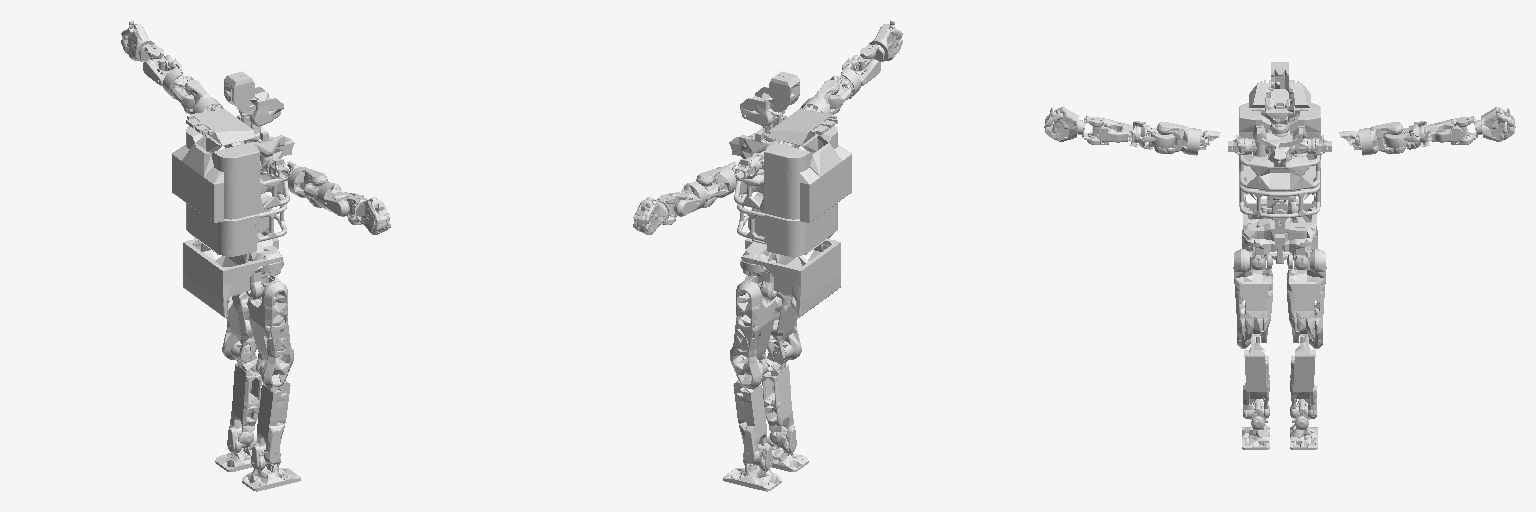
--- Facts derived from the render (not from the file) ---
3 views of the same robot in one strip: view 1: azimuth 30°, elevation 25°; view 2: azimuth 150°, elevation 25°; view 3: azimuth 270°, elevation 25° (orthographic).
Model JAXON with 34 links and 33 joints (33 revolute), rooted at BODY, posed joints at zero except 2 at the middle of their limits (LARM_JOINT2 = 1.71, RARM_JOINT2 = -1.71).
Visible links, largest first — view 1: CHEST_LINK2, BODY, RLEG_LINK2, CHEST_LINK1, LLEG_LINK3, RLEG_LINK3, HEAD_LINK1, LLEG_LINK2, RARM_LINK7, RLEG_LINK5, LARM_LINK7, RARM_LINK3 (+5 smaller); view 2: CHEST_LINK2, BODY, LLEG_LINK2, CHEST_LINK1, RLEG_LINK3, LLEG_LINK3, HEAD_LINK1, RLEG_LINK2, LARM_LINK7, LLEG_LINK5, RARM_LINK7, LARM_LINK3 (+5 smaller); view 3: CHEST_LINK2, LLEG_LINK2, RLEG_LINK2, BODY, CHEST_LINK1, LLEG_LINK3, RLEG_LINK3, LARM_LINK7, RARM_LINK7, HEAD_LINK1, LARM_LINK3, RARM_LINK3 (+8 smaller).
Boxes of the visible links, bbox=[...] form: CHEST_LINK2: bbox=[172, 109, 294, 222]; BODY: bbox=[183, 228, 282, 317]; RLEG_LINK2: bbox=[247, 281, 293, 388]; CHEST_LINK1: bbox=[186, 192, 286, 256]; LLEG_LINK3: bbox=[229, 341, 261, 444]; RLEG_LINK3: bbox=[254, 363, 290, 463]; HEAD_LINK1: bbox=[224, 71, 283, 126]; LLEG_LINK2: bbox=[222, 292, 256, 362]; RARM_LINK7: bbox=[348, 195, 390, 234]; RLEG_LINK5: bbox=[242, 455, 300, 491]; LARM_LINK7: bbox=[121, 20, 163, 62]; RARM_LINK3: bbox=[288, 167, 327, 207]; CHEST_LINK2: bbox=[729, 109, 851, 222]; BODY: bbox=[741, 238, 840, 317]; LLEG_LINK2: bbox=[730, 281, 776, 388]; CHEST_LINK1: bbox=[737, 192, 837, 256]; RLEG_LINK3: bbox=[762, 341, 794, 444]; LLEG_LINK3: bbox=[733, 363, 769, 463]; HEAD_LINK1: bbox=[740, 71, 799, 126]; RLEG_LINK2: bbox=[767, 292, 801, 362]; LARM_LINK7: bbox=[633, 195, 675, 234]; LLEG_LINK5: bbox=[723, 455, 781, 491]; RARM_LINK7: bbox=[860, 20, 902, 62]; LARM_LINK3: bbox=[696, 167, 735, 207]; CHEST_LINK2: bbox=[1239, 80, 1320, 190]; LLEG_LINK2: bbox=[1287, 249, 1326, 348]; RLEG_LINK2: bbox=[1233, 249, 1272, 348]; BODY: bbox=[1242, 200, 1317, 263]; CHEST_LINK1: bbox=[1239, 160, 1320, 219]; LLEG_LINK3: bbox=[1290, 334, 1316, 418]; RLEG_LINK3: bbox=[1243, 334, 1269, 418]; LARM_LINK7: bbox=[1456, 107, 1515, 142]; RARM_LINK7: bbox=[1044, 107, 1103, 142]; HEAD_LINK1: bbox=[1265, 62, 1294, 123]; LARM_LINK3: bbox=[1359, 122, 1405, 155]; RARM_LINK3: bbox=[1154, 122, 1200, 155].
Bounding box of the posed robot: 0.4838 × 2.16 × 1.85 m (x, y, z).
Meshes: 34 distinct files referenced, 34 mesh visuals loaded (34 Collada DAE).

URDF robot description (JAXON):
<?xml version="1.0"?>
<robot name="JAXON"
       xmlns:xi="http://www.w3.org/2001/XInclude"
       >
  <link name="BODY">
    <visual>
      <origin xyz="0 0 1.0185" rpy="0 -0 0"/>
      <geometry>
        <mesh filename="package://hrpsys_ros_bridge_tutorials/models/JAXON_meshes/BODY_mesh.dae" scale="1 1 1" />
      </geometry>
    </visual>
    <collision>
      <origin xyz="0 0 1.0185" rpy="0 -0 0"/>
      <geometry>
        <mesh filename="package://hrpsys_ros_bridge_tutorials/models/JAXON_meshes/BODY_mesh.dae" scale="1 1 1" />
      </geometry>
    </collision>
    <inertial>
      <mass value="22.7" />
      <origin xyz="-0.1059 -0.00067 -0.023" rpy="0 -0 0"/>
      <inertia ixx="0.229835" ixy="0.00171" ixz="0.135708" iyy="0.535336" iyz="0.000616" izz="0.549159"/>
    </inertial>
  </link>
  <gazebo reference="BODY">
    <mu1>0.9</mu1>
    <mu2>0.9</mu2>
  </gazebo>
  <link name="CHEST_LINK0">
    <visual>
      <origin xyz="0.006 0 0.128" rpy="0 -0 0"/>
      <geometry>
        <mesh filename="package://hrpsys_ros_bridge_tutorials/models/JAXON_meshes/CHEST_LINK0_mesh.dae" scale="1 1 1" />
      </geometry>
    </visual>
    <collision>
      <origin xyz="0.006 0 0.128" rpy="0 -0 0"/>
      <geometry>
        <mesh filename="package://hrpsys_ros_bridge_tutorials/models/JAXON_meshes/CHEST_LINK0_mesh.dae" scale="1 1 1" />
      </geometry>
    </collision>
    <inertial>
      <mass value="0.866" />
      <origin xyz="-0.0084 0.00137 0.01359" rpy="0 -0 0"/>
      <inertia ixx="0.00125384" ixy="0" ixz="0" iyy="0.00123407" iyz="0" izz="0.000677392"/>
    </inertial>
  </link>
  <gazebo reference="CHEST_LINK0">
    <mu1>0.9</mu1>
    <mu2>0.9</mu2>
  </gazebo>
  <link name="CHEST_LINK1">
    <visual>
      <origin xyz="0 0 0.025" rpy="0 -0 0"/>
      <geometry>
        <mesh filename="package://hrpsys_ros_bridge_tutorials/models/JAXON_meshes/CHEST_LINK1_mesh.dae" scale="1 1 1" />
      </geometry>
    </visual>
    <collision>
      <origin xyz="0 0 0.025" rpy="0 -0 0"/>
      <geometry>
        <mesh filename="package://hrpsys_ros_bridge_tutorials/models/JAXON_meshes/CHEST_LINK1_mesh.dae" scale="1 1 1" />
      </geometry>
    </collision>
    <inertial>
      <mass value="18.23" />
      <origin xyz="-0.111697 0.0039 0.03652" rpy="0 -0 0"/>
      <inertia ixx="0.186526" ixy="0.003889" ixz="-0.039414" iyy="0.418012" iyz="0.001281" izz="0.477668"/>
    </inertial>
  </link>
  <gazebo reference="CHEST_LINK1">
    <mu1>0.9</mu1>
    <mu2>0.9</mu2>
  </gazebo>
  <link name="CHEST_LINK2">
    <visual>
      <origin xyz="0 0 0.3085" rpy="0 -0 0"/>
      <geometry>
        <mesh filename="package://hrpsys_ros_bridge_tutorials/models/JAXON_meshes/CHEST_LINK2_mesh.dae" scale="1 1 1" />
      </geometry>
    </visual>
    <collision>
      <origin xyz="0 0 0.3085" rpy="0 -0 0"/>
      <geometry>
        <mesh filename="package://hrpsys_ros_bridge_tutorials/models/JAXON_meshes/CHEST_LINK2_mesh.dae" scale="1 1 1" />
      </geometry>
    </collision>
    <inertial>
      <mass value="31.33" />
      <origin xyz="-0.13693 -0.00113 -0.05796" rpy="0 -0 0"/>
      <inertia ixx="0.510746" ixy="0.005161" ixz="0.143334" iyy="1.09582" iyz="0.004687" izz="1.02505"/>
    </inertial>
  </link>
  <gazebo reference="CHEST_LINK2">
    <mu1>0.9</mu1>
    <mu2>0.9</mu2>
  </gazebo>
  <link name="HEAD_LINK0">
    <visual>
      <origin xyz="-0.015 0 0.0835" rpy="0 -0 0"/>
      <geometry>
        <mesh filename="package://hrpsys_ros_bridge_tutorials/models/JAXON_meshes/HEAD_LINK0_mesh.dae" scale="1 1 1" />
      </geometry>
    </visual>
    <collision>
      <origin xyz="-0.015 0 0.0835" rpy="0 -0 0"/>
      <geometry>
        <mesh filename="package://hrpsys_ros_bridge_tutorials/models/JAXON_meshes/HEAD_LINK0_mesh.dae" scale="1 1 1" />
      </geometry>
    </collision>
    <inertial>
      <mass value="1.086" />
      <origin xyz="-0.01227 3e-05 0.03231" rpy="0 -0 0"/>
      <inertia ixx="0.0031" ixy="0" ixz="0" iyy="0.0035" iyz="0" izz="0.00119"/>
    </inertial>
  </link>
  <gazebo reference="HEAD_LINK0">
    <mu1>0.9</mu1>
    <mu2>0.9</mu2>
  </gazebo>
  <link name="HEAD_LINK1">
    <visual>
      <origin xyz="0 0 0.102" rpy="0 -0 0"/>
      <geometry>
        <mesh filename="package://hrpsys_ros_bridge_tutorials/models/JAXON_meshes/HEAD_LINK1_mesh.dae" scale="1 1 1" />
      </geometry>
    </visual>
    <collision>
      <origin xyz="0 0 0.102" rpy="0 -0 0"/>
      <geometry>
        <mesh filename="package://hrpsys_ros_bridge_tutorials/models/JAXON_meshes/HEAD_LINK1_mesh.dae" scale="1 1 1" />
      </geometry>
    </collision>
    <inertial>
      <mass value="4.274" />
      <origin xyz="0.042 0.004 0.058" rpy="0 -0 0"/>
      <inertia ixx="0.035683" ixy="0.000877" ixz="-0.003172" iyy="0.040037" iyz="0.000652" izz="0.035345"/>
    </inertial>
  </link>
  <gazebo reference="HEAD_LINK1">
    <mu1>0.9</mu1>
    <mu2>0.9</mu2>
  </gazebo>
  <link name="LARM_LINK0">
    <visual>
      <origin xyz="0 0.0875 0" rpy="0 -0 0"/>
      <geometry>
        <mesh filename="package://hrpsys_ros_bridge_tutorials/models/JAXON_meshes/LARM_LINK0_mesh.dae" scale="1 1 1" />
      </geometry>
    </visual>
    <collision>
      <origin xyz="0 0.0875 0" rpy="0 -0 0"/>
      <geometry>
        <mesh filename="package://hrpsys_ros_bridge_tutorials/models/JAXON_meshes/LARM_LINK0_mesh.dae" scale="1 1 1" />
      </geometry>
    </collision>
    <inertial>
      <mass value="1.048" />
      <origin xyz="-0.01745 0.00887 -0.00015" rpy="0 -0 0"/>
      <inertia ixx="0.0029762" ixy="0" ixz="0" iyy="0.00235085" iyz="0" izz="0.00355486"/>
    </inertial>
  </link>
  <gazebo reference="LARM_LINK0">
    <mu1>0.9</mu1>
    <mu2>0.9</mu2>
  </gazebo>
  <link name="LARM_LINK1">
    <visual>
      <origin xyz="0 0.07275 0" rpy="0 -0 0"/>
      <geometry>
        <mesh filename="package://hrpsys_ros_bridge_tutorials/models/JAXON_meshes/LARM_LINK1_mesh.dae" scale="1 1 1" />
      </geometry>
    </visual>
    <collision>
      <origin xyz="0 0.07275 0" rpy="0 -0 0"/>
      <geometry>
        <mesh filename="package://hrpsys_ros_bridge_tutorials/models/JAXON_meshes/LARM_LINK1_mesh.dae" scale="1 1 1" />
      </geometry>
    </collision>
    <inertial>
      <mass value="0.298" />
      <origin xyz="0.00011 0.01799 0.00288" rpy="0 -0 0"/>
      <inertia ixx="0.000412035" ixy="0" ixz="0" iyy="0.000251611" iyz="0" izz="0.000376771"/>
    </inertial>
  </link>
  <gazebo reference="LARM_LINK1">
    <mu1>0.9</mu1>
    <mu2>0.9</mu2>
  </gazebo>
  <link name="LARM_LINK2">
    <visual>
      <origin xyz="0 0.057 0" rpy="0 -0 0"/>
      <geometry>
        <mesh filename="package://hrpsys_ros_bridge_tutorials/models/JAXON_meshes/LARM_LINK2_mesh.dae" scale="1 1 1" />
      </geometry>
    </visual>
    <collision>
      <origin xyz="0 0.057 0" rpy="0 -0 0"/>
      <geometry>
        <mesh filename="package://hrpsys_ros_bridge_tutorials/models/JAXON_meshes/LARM_LINK2_mesh.dae" scale="1 1 1" />
      </geometry>
    </collision>
    <inertial>
      <mass value="2.168" />
      <origin xyz="0.00845 0.00671 -0.0881" rpy="0 -0 0"/>
      <inertia ixx="0.0127408" ixy="0" ixz="0" iyy="0.0133751" iyz="0" izz="0.00460362"/>
    </inertial>
  </link>
  <gazebo reference="LARM_LINK2">
    <mu1>0.9</mu1>
    <mu2>0.9</mu2>
  </gazebo>
  <link name="LARM_LINK3">
    <visual>
      <origin xyz="0 0 -0.1965" rpy="0 -0 0"/>
      <geometry>
        <mesh filename="package://hrpsys_ros_bridge_tutorials/models/JAXON_meshes/LARM_LINK3_mesh.dae" scale="1 1 1" />
      </geometry>
    </visual>
    <collision>
      <origin xyz="0 0 -0.1965" rpy="0 -0 0"/>
      <geometry>
        <mesh filename="package://hrpsys_ros_bridge_tutorials/models/JAXON_meshes/LARM_LINK3_mesh.dae" scale="1 1 1" />
      </geometry>
    </collision>
    <inertial>
      <mass value="1.315" />
      <origin xyz="0.01393 4e-05 -0.07574" rpy="0 -0 0"/>
      <inertia ixx="0.00451716" ixy="0" ixz="0" iyy="0.0055237" iyz="0" izz="0.00217053"/>
    </inertial>
  </link>
  <gazebo reference="LARM_LINK3">
    <mu1>0.9</mu1>
    <mu2>0.9</mu2>
  </gazebo>
  <link name="LARM_LINK4">
    <visual>
      <origin xyz="0 0 -0.126" rpy="0 -0 0"/>
      <geometry>
        <mesh filename="package://hrpsys_ros_bridge_tutorials/models/JAXON_meshes/LARM_LINK4_mesh.dae" scale="1 1 1" />
      </geometry>
    </visual>
    <collision>
      <origin xyz="0 0 -0.126" rpy="0 -0 0"/>
      <geometry>
        <mesh filename="package://hrpsys_ros_bridge_tutorials/models/JAXON_meshes/LARM_LINK4_mesh.dae" scale="1 1 1" />
      </geometry>
    </collision>
    <inertial>
      <mass value="1.641" />
      <origin xyz="3e-05 0.00551 -0.0426" rpy="0 -0 0"/>
      <inertia ixx="0.00665559" ixy="0" ixz="0" iyy="0.00598857" iyz="0" izz="0.00288237"/>
    </inertial>
  </link>
  <gazebo reference="LARM_LINK4">
    <mu1>0.9</mu1>
    <mu2>0.9</mu2>
  </gazebo>
  <link name="LARM_LINK5">
    <visual>
      <origin xyz="0 0 -0.1275" rpy="0 -0 0"/>
      <geometry>
        <mesh filename="package://hrpsys_ros_bridge_tutorials/models/JAXON_meshes/LARM_LINK5_mesh.dae" scale="1 1 1" />
      </geometry>
    </visual>
    <collision>
      <origin xyz="0 0 -0.1275" rpy="0 -0 0"/>
      <geometry>
        <mesh filename="package://hrpsys_ros_bridge_tutorials/models/JAXON_meshes/LARM_LINK5_mesh.dae" scale="1 1 1" />
      </geometry>
    </collision>
    <inertial>
      <mass value="1.305" />
      <origin xyz="0.01271 2e-05 -0.08415" rpy="0 -0 0"/>
      <inertia ixx="0.00533939" ixy="0" ixz="0" iyy="0.00624028" iyz="0" izz="0.00205604"/>
    </inertial>
  </link>
  <gazebo reference="LARM_LINK5">
    <mu1>0.9</mu1>
    <mu2>0.9</mu2>
  </gazebo>
  <link name="LARM_LINK6">
    <visual>
      <origin xyz="0 0 -0.146" rpy="0 -0 0"/>
      <geometry>
        <mesh filename="package://hrpsys_ros_bridge_tutorials/models/JAXON_meshes/LARM_LINK6_mesh.dae" scale="1 1 1" />
      </geometry>
    </visual>
    <collision>
      <origin xyz="0 0 -0.146" rpy="0 -0 0"/>
      <geometry>
        <mesh filename="package://hrpsys_ros_bridge_tutorials/models/JAXON_meshes/LARM_LINK6_mesh.dae" scale="1 1 1" />
      </geometry>
    </collision>
    <inertial>
      <mass value="0.505" />
      <origin xyz="0.00013 0.01427 0.00188" rpy="0 -0 0"/>
      <inertia ixx="0.000901789" ixy="0" ixz="0" iyy="0.000626727" iyz="0" izz="0.000593753"/>
    </inertial>
  </link>
  <gazebo reference="LARM_LINK6">
    <mu1>0.9</mu1>
    <mu2>0.9</mu2>
  </gazebo>
  <link name="LARM_LINK7">
    <visual>
      <origin xyz="0 0 -0.04" rpy="0 -0 0"/>
      <geometry>
        <mesh filename="package://hrpsys_ros_bridge_tutorials/models/JAXON_meshes/LARM_LINK7_mesh.dae" scale="1 1 1" />
      </geometry>
    </visual>
    <collision>
      <origin xyz="0 0 -0.04" rpy="0 -0 0"/>
      <geometry>
        <mesh filename="package://hrpsys_ros_bridge_tutorials/models/JAXON_meshes/LARM_LINK7_mesh.dae" scale="1 1 1" />
      </geometry>
    </collision>
    <inertial>
      <mass value="2.257" />
      <origin xyz="0 0 -0.085" rpy="0 -0 0"/>
      <inertia ixx="0.020752" ixy="-1.29859e-06" ixz="8.02988e-06" iyy="0.0198" iyz="0.000501" izz="0.013089"/>
    </inertial>
  </link>
  <gazebo reference="LARM_LINK7">
    <mu1>0.9</mu1>
    <mu2>0.9</mu2>
  </gazebo>
  <link name="RARM_LINK0">
    <visual>
      <origin xyz="0 -0.0875 0" rpy="0 -0 0"/>
      <geometry>
        <mesh filename="package://hrpsys_ros_bridge_tutorials/models/JAXON_meshes/RARM_LINK0_mesh.dae" scale="1 1 1" />
      </geometry>
    </visual>
    <collision>
      <origin xyz="0 -0.0875 0" rpy="0 -0 0"/>
      <geometry>
        <mesh filename="package://hrpsys_ros_bridge_tutorials/models/JAXON_meshes/RARM_LINK0_mesh.dae" scale="1 1 1" />
      </geometry>
    </collision>
    <inertial>
      <mass value="1.048" />
      <origin xyz="-0.01745 -0.00887 -0.00015" rpy="0 -0 0"/>
      <inertia ixx="0.0029762" ixy="0" ixz="0" iyy="0.00235085" iyz="0" izz="0.00355486"/>
    </inertial>
  </link>
  <gazebo reference="RARM_LINK0">
    <mu1>0.9</mu1>
    <mu2>0.9</mu2>
  </gazebo>
  <link name="RARM_LINK1">
    <visual>
      <origin xyz="0 -0.07275 0" rpy="0 -0 0"/>
      <geometry>
        <mesh filename="package://hrpsys_ros_bridge_tutorials/models/JAXON_meshes/RARM_LINK1_mesh.dae" scale="1 1 1" />
      </geometry>
    </visual>
    <collision>
      <origin xyz="0 -0.07275 0" rpy="0 -0 0"/>
      <geometry>
        <mesh filename="package://hrpsys_ros_bridge_tutorials/models/JAXON_meshes/RARM_LINK1_mesh.dae" scale="1 1 1" />
      </geometry>
    </collision>
    <inertial>
      <mass value="0.298" />
      <origin xyz="0.00011 -0.01799 0.00288" rpy="0 -0 0"/>
      <inertia ixx="0.000412035" ixy="0" ixz="0" iyy="0.000251611" iyz="0" izz="0.000376771"/>
    </inertial>
  </link>
  <gazebo reference="RARM_LINK1">
    <mu1>0.9</mu1>
    <mu2>0.9</mu2>
  </gazebo>
  <link name="RARM_LINK2">
    <visual>
      <origin xyz="0 -0.057 0" rpy="0 -0 0"/>
      <geometry>
        <mesh filename="package://hrpsys_ros_bridge_tutorials/models/JAXON_meshes/RARM_LINK2_mesh.dae" scale="1 1 1" />
      </geometry>
    </visual>
    <collision>
      <origin xyz="0 -0.057 0" rpy="0 -0 0"/>
      <geometry>
        <mesh filename="package://hrpsys_ros_bridge_tutorials/models/JAXON_meshes/RARM_LINK2_mesh.dae" scale="1 1 1" />
      </geometry>
    </collision>
    <inertial>
      <mass value="2.168" />
      <origin xyz="0.00845 -0.00671 -0.0881" rpy="0 -0 0"/>
      <inertia ixx="0.0127408" ixy="0" ixz="0" iyy="0.0133751" iyz="0" izz="0.00460362"/>
    </inertial>
  </link>
  <gazebo reference="RARM_LINK2">
    <mu1>0.9</mu1>
    <mu2>0.9</mu2>
  </gazebo>
  <link name="RARM_LINK3">
    <visual>
      <origin xyz="0 0 -0.1965" rpy="0 -0 0"/>
      <geometry>
        <mesh filename="package://hrpsys_ros_bridge_tutorials/models/JAXON_meshes/RARM_LINK3_mesh.dae" scale="1 1 1" />
      </geometry>
    </visual>
    <collision>
      <origin xyz="0 0 -0.1965" rpy="0 -0 0"/>
      <geometry>
        <mesh filename="package://hrpsys_ros_bridge_tutorials/models/JAXON_meshes/RARM_LINK3_mesh.dae" scale="1 1 1" />
      </geometry>
    </collision>
    <inertial>
      <mass value="1.315" />
      <origin xyz="0.01393 -4e-05 -0.07574" rpy="0 -0 0"/>
      <inertia ixx="0.00451716" ixy="0" ixz="0" iyy="0.0055237" iyz="0" izz="0.00217053"/>
    </inertial>
  </link>
  <gazebo reference="RARM_LINK3">
    <mu1>0.9</mu1>
    <mu2>0.9</mu2>
  </gazebo>
  <link name="RARM_LINK4">
    <visual>
      <origin xyz="0 0 -0.126" rpy="0 -0 0"/>
      <geometry>
        <mesh filename="package://hrpsys_ros_bridge_tutorials/models/JAXON_meshes/RARM_LINK4_mesh.dae" scale="1 1 1" />
      </geometry>
    </visual>
    <collision>
      <origin xyz="0 0 -0.126" rpy="0 -0 0"/>
      <geometry>
        <mesh filename="package://hrpsys_ros_bridge_tutorials/models/JAXON_meshes/RARM_LINK4_mesh.dae" scale="1 1 1" />
      </geometry>
    </collision>
    <inertial>
      <mass value="1.641" />
      <origin xyz="3e-05 -0.00551 -0.0426" rpy="0 -0 0"/>
      <inertia ixx="0.00665559" ixy="0" ixz="0" iyy="0.00598857" iyz="0" izz="0.00288237"/>
    </inertial>
  </link>
  <gazebo reference="RARM_LINK4">
    <mu1>0.9</mu1>
    <mu2>0.9</mu2>
  </gazebo>
  <link name="RARM_LINK5">
    <visual>
      <origin xyz="0 0 -0.1275" rpy="0 -0 0"/>
      <geometry>
        <mesh filename="package://hrpsys_ros_bridge_tutorials/models/JAXON_meshes/RARM_LINK5_mesh.dae" scale="1 1 1" />
      </geometry>
    </visual>
    <collision>
      <origin xyz="0 0 -0.1275" rpy="0 -0 0"/>
      <geometry>
        <mesh filename="package://hrpsys_ros_bridge_tutorials/models/JAXON_meshes/RARM_LINK5_mesh.dae" scale="1 1 1" />
      </geometry>
    </collision>
    <inertial>
      <mass value="1.305" />
      <origin xyz="0.01271 -2e-05 -0.08415" rpy="0 -0 0"/>
      <inertia ixx="0.00533939" ixy="0" ixz="0" iyy="0.00624028" iyz="0" izz="0.00205604"/>
    </inertial>
  </link>
  <gazebo reference="RARM_LINK5">
    <mu1>0.9</mu1>
    <mu2>0.9</mu2>
  </gazebo>
  <link name="RARM_LINK6">
    <visual>
      <origin xyz="0 0 -0.146" rpy="0 -0 0"/>
      <geometry>
        <mesh filename="package://hrpsys_ros_bridge_tutorials/models/JAXON_meshes/RARM_LINK6_mesh.dae" scale="1 1 1" />
      </geometry>
    </visual>
    <collision>
      <origin xyz="0 0 -0.146" rpy="0 -0 0"/>
      <geometry>
        <mesh filename="package://hrpsys_ros_bridge_tutorials/models/JAXON_meshes/RARM_LINK6_mesh.dae" scale="1 1 1" />
      </geometry>
    </collision>
    <inertial>
      <mass value="0.505" />
      <origin xyz="0.00013 -0.01427 0.00188" rpy="0 -0 0"/>
      <inertia ixx="0.000901789" ixy="0" ixz="0" iyy="0.000626727" iyz="0" izz="0.000593753"/>
    </inertial>
  </link>
  <gazebo reference="RARM_LINK6">
    <mu1>0.9</mu1>
    <mu2>0.9</mu2>
  </gazebo>
  <link name="RARM_LINK7">
    <visual>
      <origin xyz="0 0 -0.04" rpy="0 -0 0"/>
      <geometry>
        <mesh filename="package://hrpsys_ros_bridge_tutorials/models/JAXON_meshes/RARM_LINK7_mesh.dae" scale="1 1 1" />
      </geometry>
    </visual>
    <collision>
      <origin xyz="0 0 -0.04" rpy="0 -0 0"/>
      <geometry>
        <mesh filename="package://hrpsys_ros_bridge_tutorials/models/JAXON_meshes/RARM_LINK7_mesh.dae" scale="1 1 1" />
      </geometry>
    </collision>
    <inertial>
      <mass value="2.257" />
      <origin xyz="0 0 -0.085" rpy="0 -0 0"/>
      <inertia ixx="0.020752" ixy="1.29859e-06" ixz="-8.02988e-06" iyy="0.0198" iyz="-0.000501" izz="0.013089"/>
    </inertial>
  </link>
  <gazebo reference="RARM_LINK7">
    <mu1>0.9</mu1>
    <mu2>0.9</mu2>
  </gazebo>
  <link name="LLEG_LINK0">
    <visual>
      <origin xyz="0 0.1 0.0095" rpy="0 -0 0"/>
      <geometry>
        <mesh filename="package://hrpsys_ros_bridge_tutorials/models/JAXON_meshes/LLEG_LINK0_mesh.dae" scale="1 1 1" />
      </geometry>
    </visual>
    <collision>
      <origin xyz="0 0.1 0.0095" rpy="0 -0 0"/>
      <geometry>
        <mesh filename="package://hrpsys_ros_bridge_tutorials/models/JAXON_meshes/LLEG_LINK0_mesh.dae" scale="1 1 1" />
      </geometry>
    </collision>
    <inertial>
      <mass value="2.915" />
      <origin xyz="-0.02299 -0.00588 -0.07031" rpy="0 -0 0"/>
      <inertia ixx="0.00999808" ixy="-1.99354e-06" ixz="7.22147e-07" iyy="0.00999559" iyz="3.13302e-06" izz="0.00999172"/>
    </inertial>
  </link>
  <gazebo reference="LLEG_LINK0">
    <mu1>0.9</mu1>
    <mu2>0.9</mu2>
  </gazebo>
  <link name="LLEG_LINK1">
    <visual>
      <origin xyz="0 0 -0.122" rpy="0 -0 0"/>
      <geometry>
        <mesh filename="package://hrpsys_ros_bridge_tutorials/models/JAXON_meshes/LLEG_LINK1_mesh.dae" scale="1 1 1" />
      </geometry>
    </visual>
    <collision>
      <origin xyz="0 0 -0.122" rpy="0 -0 0"/>
      <geometry>
        <mesh filename="package://hrpsys_ros_bridge_tutorials/models/JAXON_meshes/LLEG_LINK1_mesh.dae" scale="1 1 1" />
      </geometry>
    </collision>
    <inertial>
      <mass value="1.199" />
      <origin xyz="-0.00441 0.00696 -0.00694" rpy="0 -0 0"/>
      <inertia ixx="0.00299879" ixy="-3.30504e-37" ixz="9.70868e-20" iyy="0.00179963" iyz="4.51014e-37" izz="0.00343603"/>
    </inertial>
  </link>
  <gazebo reference="LLEG_LINK1">
    <mu1>0.9</mu1>
    <mu2>0.9</mu2>
  </gazebo>
  <link name="LLEG_LINK2">
    <visual>
      <origin xyz="0 0 -0.01" rpy="0 -0 0"/>
      <geometry>
        <mesh filename="package://hrpsys_ros_bridge_tutorials/models/JAXON_meshes/LLEG_LINK2_mesh.dae" scale="1 1 1" />
      </geometry>
    </visual>
    <collision>
      <origin xyz="0 0 -0.01" rpy="0 -0 0"/>
      <geometry>
        <mesh filename="package://hrpsys_ros_bridge_tutorials/models/JAXON_meshes/LLEG_LINK2_mesh.dae" scale="1 1 1" />
      </geometry>
    </collision>
    <inertial>
      <mass value="5.783" />
      <origin xyz="0.00658 0.03431 -0.18864" rpy="0 -0 0"/>
      <inertia ixx="0.109779" ixy="0.0002015" ixz="0.00500356" iyy="0.109973" iyz="-0.00331032" izz="0.0103577"/>
    </inertial>
  </link>
  <gazebo reference="LLEG_LINK2">
    <mu1>0.9</mu1>
    <mu2>0.9</mu2>
  </gazebo>
  <link name="LLEG_LINK3">
    <visual>
      <origin xyz="0 0 -0.38" rpy="0 -0 0"/>
      <geometry>
        <mesh filename="package://hrpsys_ros_bridge_tutorials/models/JAXON_meshes/LLEG_LINK3_mesh.dae" scale="1 1 1" />
      </geometry>
    </visual>
    <collision>
      <origin xyz="0 0 -0.38" rpy="0 -0 0"/>
      <geometry>
        <mesh filename="package://hrpsys_ros_bridge_tutorials/models/JAXON_meshes/LLEG_LINK3_mesh.dae" scale="1 1 1" />
      </geometry>
    </collision>
    <inertial>
      <mass value="3.156" />
      <origin xyz="0.0176 0.01611 -0.17992" rpy="0 -0 0"/>
      <inertia ixx="0.0592962" ixy="0" ixz="0" iyy="0.0592638" iyz="0" izz="0.00799027"/>
    </inertial>
  </link>
  <gazebo reference="LLEG_LINK3">
    <mu1>0.9</mu1>
    <mu2>0.9</mu2>
  </gazebo>
  <link name="LLEG_LINK4">
    <visual>
      <origin xyz="0 0 -0.38" rpy="0 -0 0"/>
      <geometry>
        <mesh filename="package://hrpsys_ros_bridge_tutorials/models/JAXON_meshes/LLEG_LINK4_mesh.dae" scale="1 1 1" />
      </geometry>
    </visual>
    <collision>
      <origin xyz="0 0 -0.38" rpy="0 -0 0"/>
      <geometry>
        <mesh filename="package://hrpsys_ros_bridge_tutorials/models/JAXON_meshes/LLEG_LINK4_mesh.dae" scale="1 1 1" />
      </geometry>
    </collision>
    <inertial>
      <mass value="0.836" />
      <origin xyz="-0.00769 0.00203 -0.00714" rpy="0 -0 0"/>
      <inertia ixx="0.0014428" ixy="0" ixz="0" iyy="0.001606" iyz="0" izz="0.00150135"/>
    </inertial>
  </link>
  <gazebo reference="LLEG_LINK4">
    <mu1>0.9</mu1>
    <mu2>0.9</mu2>
  </gazebo>
  <link name="LLEG_LINK5">
    <visual>
      <origin xyz="0 0 -0.04" rpy="0 -0 0"/>
      <geometry>
        <mesh filename="package://hrpsys_ros_bridge_tutorials/models/JAXON_meshes/LLEG_LINK5_mesh.dae" scale="1 1 1" />
      </geometry>
    </visual>
    <collision>
      <origin xyz="0 0 -0.04" rpy="0 -0 0"/>
      <geometry>
        <mesh filename="package://hrpsys_ros_bridge_tutorials/models/JAXON_meshes/LLEG_LINK5_mesh.dae" scale="1 1 1" />
      </geometry>
    </collision>
    <inertial>
      <mass value="1.552" />
      <origin xyz="0.00064 0.00264 -0.05633" rpy="0 -0 0"/>
      <inertia ixx="0.00442296" ixy="0" ixz="0" iyy="0.00907896" iyz="0" izz="0.00902826"/>
    </inertial>
  </link>
  <gazebo reference="LLEG_LINK5">
    <mu1>0.9</mu1>
    <mu2>0.9</mu2>
  </gazebo>
  <link name="RLEG_LINK0">
    <visual>
      <origin xyz="0 -0.1 0.0095" rpy="0 -0 0"/>
      <geometry>
        <mesh filename="package://hrpsys_ros_bridge_tutorials/models/JAXON_meshes/RLEG_LINK0_mesh.dae" scale="1 1 1" />
      </geometry>
    </visual>
    <collision>
      <origin xyz="0 -0.1 0.0095" rpy="0 -0 0"/>
      <geometry>
        <mesh filename="package://hrpsys_ros_bridge_tutorials/models/JAXON_meshes/RLEG_LINK0_mesh.dae" scale="1 1 1" />
      </geometry>
    </collision>
    <inertial>
      <mass value="2.915" />
      <origin xyz="-0.02299 0.00588 -0.07031" rpy="0 -0 0"/>
      <inertia ixx="0.00999808" ixy="-1.99354e-06" ixz="-7.22147e-07" iyy="0.00999559" iyz="-3.13302e-06" izz="0.00999172"/>
    </inertial>
  </link>
  <gazebo reference="RLEG_LINK0">
    <mu1>0.9</mu1>
    <mu2>0.9</mu2>
  </gazebo>
  <link name="RLEG_LINK1">
    <visual>
      <origin xyz="0 0 -0.122" rpy="0 -0 0"/>
      <geometry>
        <mesh filename="package://hrpsys_ros_bridge_tutorials/models/JAXON_meshes/RLEG_LINK1_mesh.dae" scale="1 1 1" />
      </geometry>
    </visual>
    <collision>
      <origin xyz="0 0 -0.122" rpy="0 -0 0"/>
      <geometry>
        <mesh filename="package://hrpsys_ros_bridge_tutorials/models/JAXON_meshes/RLEG_LINK1_mesh.dae" scale="1 1 1" />
      </geometry>
    </collision>
    <inertial>
      <mass value="1.199" />
      <origin xyz="-0.00441 -0.00696 -0.00694" rpy="0 -0 0"/>
      <inertia ixx="0.00299879" ixy="3.30504e-37" ixz="9.70868e-20" iyy="0.00179963" iyz="-4.51014e-37" izz="0.00343603"/>
    </inertial>
  </link>
  <gazebo reference="RLEG_LINK1">
    <mu1>0.9</mu1>
    <mu2>0.9</mu2>
  </gazebo>
  <link name="RLEG_LINK2">
    <visual>
      <origin xyz="0 0 -0.01" rpy="0 -0 0"/>
      <geometry>
        <mesh filename="package://hrpsys_ros_bridge_tutorials/models/JAXON_meshes/RLEG_LINK2_mesh.dae" scale="1 1 1" />
      </geometry>
    </visual>
    <collision>
      <origin xyz="0 0 -0.01" rpy="0 -0 0"/>
      <geometry>
        <mesh filename="package://hrpsys_ros_bridge_tutorials/models/JAXON_meshes/RLEG_LINK2_mesh.dae" scale="1 1 1" />
      </geometry>
    </collision>
    <inertial>
      <mass value="5.783" />
      <origin xyz="0.00658 -0.03431 -0.18864" rpy="0 -0 0"/>
      <inertia ixx="0.109779" ixy="-0.0002015" ixz="0.00500356" iyy="0.109973" iyz="0.00331032" izz="0.0103577"/>
    </inertial>
  </link>
  <gazebo reference="RLEG_LINK2">
    <mu1>0.9</mu1>
    <mu2>0.9</mu2>
  </gazebo>
  <link name="RLEG_LINK3">
    <visual>
      <origin xyz="0 0 -0.38" rpy="0 -0 0"/>
      <geometry>
        <mesh filename="package://hrpsys_ros_bridge_tutorials/models/JAXON_meshes/RLEG_LINK3_mesh.dae" scale="1 1 1" />
      </geometry>
    </visual>
    <collision>
      <origin xyz="0 0 -0.38" rpy="0 -0 0"/>
      <geometry>
        <mesh filename="package://hrpsys_ros_bridge_tutorials/models/JAXON_meshes/RLEG_LINK3_mesh.dae" scale="1 1 1" />
      </geometry>
    </collision>
    <inertial>
      <mass value="3.156" />
      <origin xyz="0.0176 -0.01611 -0.17992" rpy="0 -0 0"/>
      <inertia ixx="0.0592962" ixy="0" ixz="0" iyy="0.0592638" iyz="0" izz="0.00799027"/>
    </inertial>
  </link>
  <gazebo reference="RLEG_LINK3">
    <mu1>0.9</mu1>
    <mu2>0.9</mu2>
  </gazebo>
  <link name="RLEG_LINK4">
    <visual>
      <origin xyz="0 0 -0.38" rpy="0 -0 0"/>
      <geometry>
        <mesh filename="package://hrpsys_ros_bridge_tutorials/models/JAXON_meshes/RLEG_LINK4_mesh.dae" scale="1 1 1" />
      </geometry>
    </visual>
    <collision>
      <origin xyz="0 0 -0.38" rpy="0 -0 0"/>
      <geometry>
        <mesh filename="package://hrpsys_ros_bridge_tutorials/models/JAXON_meshes/RLEG_LINK4_mesh.dae" scale="1 1 1" />
      </geometry>
    </collision>
    <inertial>
      <mass value="0.836" />
      <origin xyz="-0.00769 -0.00203 -0.00714" rpy="0 -0 0"/>
      <inertia ixx="0.0014428" ixy="0" ixz="0" iyy="0.001606" iyz="0" izz="0.00150135"/>
    </inertial>
  </link>
  <gazebo reference="RLEG_LINK4">
    <mu1>0.9</mu1>
    <mu2>0.9</mu2>
  </gazebo>
  <link name="RLEG_LINK5">
    <visual>
      <origin xyz="0 0 -0.04" rpy="0 -0 0"/>
      <geometry>
        <mesh filename="package://hrpsys_ros_bridge_tutorials/models/JAXON_meshes/RLEG_LINK5_mesh.dae" scale="1 1 1" />
      </geometry>
    </visual>
    <collision>
      <origin xyz="0 0 -0.04" rpy="0 -0 0"/>
      <geometry>
        <mesh filename="package://hrpsys_ros_bridge_tutorials/models/JAXON_meshes/RLEG_LINK5_mesh.dae" scale="1 1 1" />
      </geometry>
    </collision>
    <inertial>
      <mass value="1.552" />
      <origin xyz="0.00064 -0.00264 -0.05633" rpy="0 -0 0"/>
      <inertia ixx="0.00442296" ixy="0" ixz="0" iyy="0.00907896" iyz="0" izz="0.00902826"/>
    </inertial>
  </link>
  <gazebo reference="RLEG_LINK5">
    <mu1>0.9</mu1>
    <mu2>0.9</mu2>
  </gazebo>
  <joint name="CHEST_JOINT0" type="revolute">
    <parent link="BODY"/>
    <child  link="CHEST_LINK0"/>
    <origin xyz="0.006 0 0.128" rpy="0 -0 0 "/>
    <axis   xyz="1 0 0"/>
    <limit lower="-0.198551" upper="0.198551" effort="787.2" velocity="4" />
    <dynamics damping="0.2" friction="0" />
  </joint>
  <transmission type="pr2_mechanism_model/SimpleTransmission" name="CHEST_JOINT0_trans" >
    <actuator name="CHEST_JOINT0_motor" />
    <joint name="CHEST_JOINT0" />
    <mechanicalReduction>1</mechanicalReduction>
  </transmission>
  <gazebo reference="CHEST_JOINT0">
    <cfmDamping>0.4</cfmDamping>
  </gazebo>
  <joint name="CHEST_JOINT1" type="revolute">
    <parent link="CHEST_LINK0"/>
    <child  link="CHEST_LINK1"/>
    <origin xyz="0 0 0.025" rpy="0 -0 0 "/>
    <axis   xyz="0 1 0"/>
    <limit lower="-0.0523599" upper="0.610865" effort="787.2" velocity="4" />
    <dynamics damping="0.2" friction="0" />
  </joint>
  <transmission type="pr2_mechanism_model/SimpleTransmission" name="CHEST_JOINT1_trans" >
    <actuator name="CHEST_JOINT1_motor" />
    <joint name="CHEST_JOINT1" />
    <mechanicalReduction>1</mechanicalReduction>
  </transmission>
  <gazebo reference="CHEST_JOINT1">
    <cfmDamping>0.4</cfmDamping>
  </gazebo>
  <joint name="CHEST_JOINT2" type="revolute">
    <parent link="CHEST_LINK1"/>
    <child  link="CHEST_LINK2"/>
    <origin xyz="0 0 0.3085" rpy="0 -0 0 "/>
    <axis   xyz="0 0 1"/>
    <limit lower="-1.0566" upper="1.0566" effort="393.6" velocity="4" />
    <dynamics damping="0.2" friction="0" />
  </joint>
  <transmission type="pr2_mechanism_model/SimpleTransmission" name="CHEST_JOINT2_trans" >
    <actuator name="CHEST_JOINT2_motor" />
    <joint name="CHEST_JOINT2" />
    <mechanicalReduction>1</mechanicalReduction>
  </transmission>
  <gazebo reference="CHEST_JOINT2">
    <cfmDamping>0.4</cfmDamping>
  </gazebo>
  <joint name="HEAD_JOINT0" type="revolute">
    <parent link="CHEST_LINK2"/>
    <child  link="HEAD_LINK0"/>
    <origin xyz="-0.015 0 0.0835" rpy="0 -0 0 "/>
    <axis   xyz="0 0 1"/>
    <limit lower="-0.575959" upper="0.541052" effort="472.32" velocity="4" />
    <dynamics damping="0.2" friction="0" />
  </joint>
  <transmission type="pr2_mechanism_model/SimpleTransmission" name="HEAD_JOINT0_trans" >
    <actuator name="HEAD_JOINT0_motor" />
    <joint name="HEAD_JOINT0" />
    <mechanicalReduction>1</mechanicalReduction>
  </transmission>
  <gazebo reference="HEAD_JOINT0">
    <cfmDamping>0.4</cfmDamping>
  </gazebo>
  <joint name="HEAD_JOINT1" type="revolute">
    <parent link="HEAD_LINK0"/>
    <child  link="HEAD_LINK1"/>
    <origin xyz="0 0 0.102" rpy="0 -0 0 "/>
    <axis   xyz="0 1 0"/>
    <limit lower="-0.575959" upper="0.698132" effort="472.32" velocity="4" />
    <dynamics damping="0.2" friction="0" />
  </joint>
  <transmission type="pr2_mechanism_model/SimpleTransmission" name="HEAD_JOINT1_trans" >
    <actuator name="HEAD_JOINT1_motor" />
    <joint name="HEAD_JOINT1" />
    <mechanicalReduction>1</mechanicalReduction>
  </transmission>
  <gazebo reference="HEAD_JOINT1">
    <cfmDamping>0.4</cfmDamping>
  </gazebo>
  <joint name="LARM_JOINT0" type="revolute">
    <parent link="CHEST_LINK2"/>
    <child  link="LARM_LINK0"/>
    <origin xyz="0 0.0875 0" rpy="0 -0 0 "/>
    <axis   xyz="0 0 1"/>
    <limit lower="-1.4208" upper="0.306849" effort="472.32" velocity="4" />
    <dynamics damping="0.2" friction="0" />
  </joint>
  <transmission type="pr2_mechanism_model/SimpleTransmission" name="LARM_JOINT0_trans" >
    <actuator name="LARM_JOINT0_motor" />
    <joint name="LARM_JOINT0" />
    <mechanicalReduction>1</mechanicalReduction>
  </transmission>
  <gazebo reference="LARM_JOINT0">
    <cfmDamping>0.4</cfmDamping>
  </gazebo>
  <joint name="LARM_JOINT1" type="revolute">
    <parent link="LARM_LINK0"/>
    <child  link="LARM_LINK1"/>
    <origin xyz="0 0.07275 0" rpy="0 -0 0 "/>
    <axis   xyz="0 1 0"/>
    <limit lower="-3.14159" upper="3.14159" effort="472.32" velocity="4" />
    <dynamics damping="0.2" friction="0" />
  </joint>
  <transmission type="pr2_mechanism_model/SimpleTransmission" name="LARM_JOINT1_trans" >
    <actuator name="LARM_JOINT1_motor" />
    <joint name="LARM_JOINT1" />
    <mechanicalReduction>1</mechanicalReduction>
  </transmission>
  <gazebo reference="LARM_JOINT1">
    <cfmDamping>0.4</cfmDamping>
  </gazebo>
  <joint name="LARM_JOINT2" type="revolute">
    <parent link="LARM_LINK1"/>
    <child  link="LARM_LINK2"/>
    <origin xyz="0 0.057 0" rpy="0 -0 0 "/>
    <axis   xyz="1 0 0"/>
    <limit lower="0.2762" upper="3.14159" effort="472.32" velocity="4" />
    <dynamics damping="0.2" friction="0" />
  </joint>
  <transmission type="pr2_mechanism_model/SimpleTransmission" name="LARM_JOINT2_trans" >
    <actuator name="LARM_JOINT2_motor" />
    <joint name="LARM_JOINT2" />
    <mechanicalReduction>1</mechanicalReduction>
  </transmission>
  <gazebo reference="LARM_JOINT2">
    <cfmDamping>0.4</cfmDamping>
  </gazebo>
  <joint name="LARM_JOINT3" type="revolute">
    <parent link="LARM_LINK2"/>
    <child  link="LARM_LINK3"/>
    <origin xyz="0 0 -0.1965" rpy="0 -0 0 "/>
    <axis   xyz="0 0 1"/>
    <limit lower="-3.14159" upper="3.14159" effort="472.32" velocity="4" />
    <dynamics damping="0.2" friction="0" />
  </joint>
  <transmission type="pr2_mechanism_model/SimpleTransmission" name="LARM_JOINT3_trans" >
    <actuator name="LARM_JOINT3_motor" />
    <joint name="LARM_JOINT3" />
    <mechanicalReduction>1</mechanicalReduction>
  </transmission>
  <gazebo reference="LARM_JOINT3">
    <cfmDamping>0.4</cfmDamping>
  </gazebo>
  <joint name="LARM_JOINT4" type="revolute">
    <parent link="LARM_LINK3"/>
    <child  link="LARM_LINK4"/>
    <origin xyz="0 0 -0.126" rpy="0 -0 0 "/>
    <axis   xyz="0 1 0"/>
    <limit lower="-2.19006" upper="1.0472" effort="472.32" velocity="4" />
    <dynamics damping="0.2" friction="0" />
  </joint>
  <transmission type="pr2_mechanism_model/SimpleTransmission" name="LARM_JOINT4_trans" >
    <actuator name="LARM_JOINT4_motor" />
    <joint name="LARM_JOINT4" />
    <mechanicalReduction>1</mechanicalReduction>
  </transmission>
  <gazebo reference="LARM_JOINT4">
    <cfmDamping>0.4</cfmDamping>
  </gazebo>
  <joint name="LARM_JOINT5" type="revolute">
    <parent link="LARM_LINK4"/>
    <child  link="LARM_LINK5"/>
    <origin xyz="0 0 -0.1275" rpy="0 -0 0 "/>
    <axis   xyz="0 0 1"/>
    <limit lower="-3.14159" upper="3.14159" effort="472.32" velocity="4" />
    <dynamics damping="0.2" friction="0" />
  </joint>
  <transmission type="pr2_mechanism_model/SimpleTransmission" name="LARM_JOINT5_trans" >
    <actuator name="LARM_JOINT5_motor" />
    <joint name="LARM_JOINT5" />
    <mechanicalReduction>1</mechanicalReduction>
  </transmission>
  <gazebo reference="LARM_JOINT5">
    <cfmDamping>0.4</cfmDamping>
  </gazebo>
  <joint name="LARM_JOINT6" type="revolute">
    <parent link="LARM_LINK5"/>
    <child  link="LARM_LINK6"/>
    <origin xyz="0 0 -0.146" rpy="0 -0 0 "/>
    <axis   xyz="1 0 0"/>
    <limit lower="-1.54494" upper="1.5708" effort="472.32" velocity="4" />
    <dynamics damping="0.2" friction="0" />
  </joint>
  <transmission type="pr2_mechanism_model/SimpleTransmission" name="LARM_JOINT6_trans" >
    <actuator name="LARM_JOINT6_motor" />
    <joint name="LARM_JOINT6" />
    <mechanicalReduction>1</mechanicalReduction>
  </transmission>
  <gazebo reference="LARM_JOINT6">
    <cfmDamping>0.4</cfmDamping>
  </gazebo>
  <joint name="LARM_JOINT7" type="revolute">
    <parent link="LARM_LINK6"/>
    <child  link="LARM_LINK7"/>
    <origin xyz="0 0 -0.04" rpy="0 -0 0 "/>
    <axis   xyz="0 1 0"/>
    <limit lower="-1.41372" upper="1.0472" effort="475.272" velocity="4" />
    <dynamics damping="0.2" friction="0" />
  </joint>
  <transmission type="pr2_mechanism_model/SimpleTransmission" name="LARM_JOINT7_trans" >
    <actuator name="LARM_JOINT7_motor" />
    <joint name="LARM_JOINT7" />
    <mechanicalReduction>1</mechanicalReduction>
  </transmission>
  <gazebo reference="LARM_JOINT7">
    <cfmDamping>0.4</cfmDamping>
  </gazebo>
  <joint name="RARM_JOINT0" type="revolute">
    <parent link="CHEST_LINK2"/>
    <child  link="RARM_LINK0"/>
    <origin xyz="0 -0.0875 0" rpy="0 -0 0 "/>
    <axis   xyz="0 0 1"/>
    <limit lower="-0.306849" upper="1.4208" effort="472.32" velocity="4" />
    <dynamics damping="0.2" friction="0" />
  </joint>
  <transmission type="pr2_mechanism_model/SimpleTransmission" name="RARM_JOINT0_trans" >
    <actuator name="RARM_JOINT0_motor" />
    <joint name="RARM_JOINT0" />
    <mechanicalReduction>1</mechanicalReduction>
  </transmission>
  <gazebo reference="RARM_JOINT0">
    <cfmDamping>0.4</cfmDamping>
  </gazebo>
  <joint name="RARM_JOINT1" type="revolute">
    <parent link="RARM_LINK0"/>
    <child  link="RARM_LINK1"/>
    <origin xyz="0 -0.07275 0" rpy="0 -0 0 "/>
    <axis   xyz="0 1 0"/>
    <limit lower="-3.14159" upper="3.14159" effort="472.32" velocity="4" />
    <dynamics damping="0.2" friction="0" />
  </joint>
  <transmission type="pr2_mechanism_model/SimpleTransmission" name="RARM_JOINT1_trans" >
    <actuator name="RARM_JOINT1_motor" />
    <joint name="RARM_JOINT1" />
    <mechanicalReduction>1</mechanicalReduction>
  </transmission>
  <gazebo reference="RARM_JOINT1">
    <cfmDamping>0.4</cfmDamping>
  </gazebo>
  <joint name="RARM_JOINT2" type="revolute">
    <parent link="RARM_LINK1"/>
    <child  link="RARM_LINK2"/>
    <origin xyz="0 -0.057 0" rpy="0 -0 0 "/>
    <axis   xyz="1 0 0"/>
    <limit lower="-3.14159" upper="-0.2762" effort="472.32" velocity="4" />
    <dynamics damping="0.2" friction="0" />
  </joint>
  <transmission type="pr2_mechanism_model/SimpleTransmission" name="RARM_JOINT2_trans" >
    <actuator name="RARM_JOINT2_motor" />
    <joint name="RARM_JOINT2" />
    <mechanicalReduction>1</mechanicalReduction>
  </transmission>
  <gazebo reference="RARM_JOINT2">
    <cfmDamping>0.4</cfmDamping>
  </gazebo>
  <joint name="RARM_JOINT3" type="revolute">
    <parent link="RARM_LINK2"/>
    <child  link="RARM_LINK3"/>
    <origin xyz="0 0 -0.1965" rpy="0 -0 0 "/>
    <axis   xyz="0 0 1"/>
    <limit lower="-3.14159" upper="3.14159" effort="472.32" velocity="4" />
    <dynamics damping="0.2" friction="0" />
  </joint>
  <transmission type="pr2_mechanism_model/SimpleTransmission" name="RARM_JOINT3_trans" >
    <actuator name="RARM_JOINT3_motor" />
    <joint name="RARM_JOINT3" />
    <mechanicalReduction>1</mechanicalReduction>
  </transmission>
  <gazebo reference="RARM_JOINT3">
    <cfmDamping>0.4</cfmDamping>
  </gazebo>
  <joint name="RARM_JOINT4" type="revolute">
    <parent link="RARM_LINK3"/>
    <child  link="RARM_LINK4"/>
    <origin xyz="0 0 -0.126" rpy="0 -0 0 "/>
    <axis   xyz="0 1 0"/>
    <limit lower="-2.19006" upper="1.0472" effort="472.32" velocity="4" />
    <dynamics damping="0.2" friction="0" />
  </joint>
  <transmission type="pr2_mechanism_model/SimpleTransmission" name="RARM_JOINT4_trans" >
    <actuator name="RARM_JOINT4_motor" />
    <joint name="RARM_JOINT4" />
    <mechanicalReduction>1</mechanicalReduction>
  </transmission>
  <gazebo reference="RARM_JOINT4">
    <cfmDamping>0.4</cfmDamping>
  </gazebo>
  <joint name="RARM_JOINT5" type="revolute">
    <parent link="RARM_LINK4"/>
    <child  link="RARM_LINK5"/>
    <origin xyz="0 0 -0.1275" rpy="0 -0 0 "/>
    <axis   xyz="0 0 1"/>
    <limit lower="-3.14159" upper="3.14159" effort="472.32" velocity="4" />
    <dynamics damping="0.2" friction="0" />
  </joint>
  <transmission type="pr2_mechanism_model/SimpleTransmission" name="RARM_JOINT5_trans" >
    <actuator name="RARM_JOINT5_motor" />
    <joint name="RARM_JOINT5" />
    <mechanicalReduction>1</mechanicalReduction>
  </transmission>
  <gazebo reference="RARM_JOINT5">
    <cfmDamping>0.4</cfmDamping>
  </gazebo>
  <joint name="RARM_JOINT6" type="revolute">
    <parent link="RARM_LINK5"/>
    <child  link="RARM_LINK6"/>
    <origin xyz="0 0 -0.146" rpy="0 -0 0 "/>
    <axis   xyz="1 0 0"/>
    <limit lower="-1.5708" upper="1.54494" effort="472.32" velocity="4" />
    <dynamics damping="0.2" friction="0" />
  </joint>
  <transmission type="pr2_mechanism_model/SimpleTransmission" name="RARM_JOINT6_trans" >
    <actuator name="RARM_JOINT6_motor" />
    <joint name="RARM_JOINT6" />
    <mechanicalReduction>1</mechanicalReduction>
  </transmission>
  <gazebo reference="RARM_JOINT6">
    <cfmDamping>0.4</cfmDamping>
  </gazebo>
  <joint name="RARM_JOINT7" type="revolute">
    <parent link="RARM_LINK6"/>
    <child  link="RARM_LINK7"/>
    <origin xyz="0 0 -0.04" rpy="0 -0 0 "/>
    <axis   xyz="0 1 0"/>
    <limit lower="-1.41372" upper="1.0472" effort="475.272" velocity="4" />
    <dynamics damping="0.2" friction="0" />
  </joint>
  <transmission type="pr2_mechanism_model/SimpleTransmission" name="RARM_JOINT7_trans" >
    <actuator name="RARM_JOINT7_motor" />
    <joint name="RARM_JOINT7" />
    <mechanicalReduction>1</mechanicalReduction>
  </transmission>
  <gazebo reference="RARM_JOINT7">
    <cfmDamping>0.4</cfmDamping>
  </gazebo>
  <joint name="LLEG_JOINT0" type="revolute">
    <parent link="BODY"/>
    <child  link="LLEG_LINK0"/>
    <origin xyz="0 0.1 0.0095" rpy="0 -0 0 "/>
    <axis   xyz="0 0 1"/>
    <limit lower="-1.0972" upper="1.02662" effort="246" velocity="17" />
    <dynamics damping="0.2" friction="0" />
  </joint>
  <transmission type="pr2_mechanism_model/SimpleTransmission" name="LLEG_JOINT0_trans" >
    <actuator name="LLEG_JOINT0_motor" />
    <joint name="LLEG_JOINT0" />
    <mechanicalReduction>1</mechanicalReduction>
  </transmission>
  <gazebo reference="LLEG_JOINT0">
    <cfmDamping>0.4</cfmDamping>
  </gazebo>
  <joint name="LLEG_JOINT1" type="revolute">
    <parent link="LLEG_LINK0"/>
    <child  link="LLEG_LINK1"/>
    <origin xyz="0 0 -0.122" rpy="0 -0 0 "/>
    <axis   xyz="1 0 0"/>
    <limit lower="-0.523599" upper="0.725029" effort="393.6" velocity="17" />
    <dynamics damping="0.2" friction="0" />
  </joint>
  <transmission type="pr2_mechanism_model/SimpleTransmission" name="LLEG_JOINT1_trans" >
    <actuator name="LLEG_JOINT1_motor" />
    <joint name="LLEG_JOINT1" />
    <mechanicalReduction>1</mechanicalReduction>
  </transmission>
  <gazebo reference="LLEG_JOINT1">
    <cfmDamping>0.4</cfmDamping>
  </gazebo>
  <joint name="LLEG_JOINT2" type="revolute">
    <parent link="LLEG_LINK1"/>
    <child  link="LLEG_LINK2"/>
    <origin xyz="0 0 -0.01" rpy="0 -0 0 "/>
    <axis   xyz="0 1 0"/>
    <limit lower="-2.11843" upper="0.785398" effort="492" velocity="17" />
    <dynamics damping="0.2" friction="0" />
  </joint>
  <transmission type="pr2_mechanism_model/SimpleTransmission" name="LLEG_JOINT2_trans" >
    <actuator name="LLEG_JOINT2_motor" />
    <joint name="LLEG_JOINT2" />
    <mechanicalReduction>1</mechanicalReduction>
  </transmission>
  <gazebo reference="LLEG_JOINT2">
    <cfmDamping>0.4</cfmDamping>
  </gazebo>
  <joint name="LLEG_JOINT3" type="revolute">
    <parent link="LLEG_LINK2"/>
    <child  link="LLEG_LINK3"/>
    <origin xyz="0 0 -0.38" rpy="0 -0 0 "/>
    <axis   xyz="0 1 0"/>
    <limit lower="0" upper="2.77419" effort="492" velocity="17" />
    <dynamics damping="0.2" friction="0" />
  </joint>
  <transmission type="pr2_mechanism_model/SimpleTransmission" name="LLEG_JOINT3_trans" >
    <actuator name="LLEG_JOINT3_motor" />
    <joint name="LLEG_JOINT3" />
    <mechanicalReduction>1</mechanicalReduction>
  </transmission>
  <gazebo reference="LLEG_JOINT3">
    <cfmDamping>0.4</cfmDamping>
  </gazebo>
  <joint name="LLEG_JOINT4" type="revolute">
    <parent link="LLEG_LINK3"/>
    <child  link="LLEG_LINK4"/>
    <origin xyz="0 0 -0.38" rpy="0 -0 0 "/>
    <axis   xyz="0 1 0"/>
    <limit lower="-1.38564" upper="1.47343" effort="295.2" velocity="17" />
    <dynamics damping="0.2" friction="0" />
  </joint>
  <transmission type="pr2_mechanism_model/SimpleTransmission" name="LLEG_JOINT4_trans" >
    <actuator name="LLEG_JOINT4_motor" />
    <joint name="LLEG_JOINT4" />
    <mechanicalReduction>1</mechanicalReduction>
  </transmission>
  <gazebo reference="LLEG_JOINT4">
    <cfmDamping>0.4</cfmDamping>
  </gazebo>
  <joint name="LLEG_JOINT5" type="revolute">
    <parent link="LLEG_LINK4"/>
    <child  link="LLEG_LINK5"/>
    <origin xyz="0 0 -0.04" rpy="0 -0 0 "/>
    <axis   xyz="1 0 0"/>
    <limit lower="-1.0472" upper="1.0472" effort="247.537" velocity="17" />
    <dynamics damping="0.2" friction="0" />
  </joint>
  <transmission type="pr2_mechanism_model/SimpleTransmission" name="LLEG_JOINT5_trans" >
    <actuator name="LLEG_JOINT5_motor" />
    <joint name="LLEG_JOINT5" />
    <mechanicalReduction>1</mechanicalReduction>
  </transmission>
  <gazebo reference="LLEG_JOINT5">
    <cfmDamping>0.4</cfmDamping>
  </gazebo>
  <joint name="RLEG_JOINT0" type="revolute">
    <parent link="BODY"/>
    <child  link="RLEG_LINK0"/>
    <origin xyz="0 -0.1 0.0095" rpy="0 -0 0 "/>
    <axis   xyz="0 0 1"/>
    <limit lower="-1.02662" upper="1.0972" effort="246" velocity="17" />
    <dynamics damping="0.2" friction="0" />
  </joint>
  <transmission type="pr2_mechanism_model/SimpleTransmission" name="RLEG_JOINT0_trans" >
    <actuator name="RLEG_JOINT0_motor" />
    <joint name="RLEG_JOINT0" />
    <mechanicalReduction>1</mechanicalReduction>
  </transmission>
  <gazebo reference="RLEG_JOINT0">
    <cfmDamping>0.4</cfmDamping>
  </gazebo>
  <joint name="RLEG_JOINT1" type="revolute">
    <parent link="RLEG_LINK0"/>
    <child  link="RLEG_LINK1"/>
    <origin xyz="0 0 -0.122" rpy="0 -0 0 "/>
    <axis   xyz="1 0 0"/>
    <limit lower="-0.725029" upper="0.523599" effort="393.6" velocity="17" />
    <dynamics damping="0.2" friction="0" />
  </joint>
  <transmission type="pr2_mechanism_model/SimpleTransmission" name="RLEG_JOINT1_trans" >
    <actuator name="RLEG_JOINT1_motor" />
    <joint name="RLEG_JOINT1" />
    <mechanicalReduction>1</mechanicalReduction>
  </transmission>
  <gazebo reference="RLEG_JOINT1">
    <cfmDamping>0.4</cfmDamping>
  </gazebo>
  <joint name="RLEG_JOINT2" type="revolute">
    <parent link="RLEG_LINK1"/>
    <child  link="RLEG_LINK2"/>
    <origin xyz="0 0 -0.01" rpy="0 -0 0 "/>
    <axis   xyz="0 1 0"/>
    <limit lower="-2.11843" upper="0.785398" effort="492" velocity="17" />
    <dynamics damping="0.2" friction="0" />
  </joint>
  <transmission type="pr2_mechanism_model/SimpleTransmission" name="RLEG_JOINT2_trans" >
    <actuator name="RLEG_JOINT2_motor" />
    <joint name="RLEG_JOINT2" />
    <mechanicalReduction>1</mechanicalReduction>
  </transmission>
  <gazebo reference="RLEG_JOINT2">
    <cfmDamping>0.4</cfmDamping>
  </gazebo>
  <joint name="RLEG_JOINT3" type="revolute">
    <parent link="RLEG_LINK2"/>
    <child  link="RLEG_LINK3"/>
    <origin xyz="0 0 -0.38" rpy="0 -0 0 "/>
    <axis   xyz="0 1 0"/>
    <limit lower="0" upper="2.77419" effort="492" velocity="17" />
    <dynamics damping="0.2" friction="0" />
  </joint>
  <transmission type="pr2_mechanism_model/SimpleTransmission" name="RLEG_JOINT3_trans" >
    <actuator name="RLEG_JOINT3_motor" />
    <joint name="RLEG_JOINT3" />
    <mechanicalReduction>1</mechanicalReduction>
  </transmission>
  <gazebo reference="RLEG_JOINT3">
    <cfmDamping>0.4</cfmDamping>
  </gazebo>
  <joint name="RLEG_JOINT4" type="revolute">
    <parent link="RLEG_LINK3"/>
    <child  link="RLEG_LINK4"/>
    <origin xyz="0 0 -0.38" rpy="0 -0 0 "/>
    <axis   xyz="0 1 0"/>
    <limit lower="-1.38564" upper="1.47343" effort="295.2" velocity="17" />
    <dynamics damping="0.2" friction="0" />
  </joint>
  <transmission type="pr2_mechanism_model/SimpleTransmission" name="RLEG_JOINT4_trans" >
    <actuator name="RLEG_JOINT4_motor" />
    <joint name="RLEG_JOINT4" />
    <mechanicalReduction>1</mechanicalReduction>
  </transmission>
  <gazebo reference="RLEG_JOINT4">
    <cfmDamping>0.4</cfmDamping>
  </gazebo>
  <joint name="RLEG_JOINT5" type="revolute">
    <parent link="RLEG_LINK4"/>
    <child  link="RLEG_LINK5"/>
    <origin xyz="0 0 -0.04" rpy="0 -0 0 "/>
    <axis   xyz="1 0 0"/>
    <limit lower="-1.0472" upper="1.0472" effort="247.537" velocity="17" />
    <dynamics damping="0.2" friction="0" />
  </joint>
  <transmission type="pr2_mechanism_model/SimpleTransmission" name="RLEG_JOINT5_trans" >
    <actuator name="RLEG_JOINT5_motor" />
    <joint name="RLEG_JOINT5" />
    <mechanicalReduction>1</mechanicalReduction>
  </transmission>
  <gazebo reference="RLEG_JOINT5">
    <cfmDamping>0.4</cfmDamping>
  </gazebo>
</robot>
